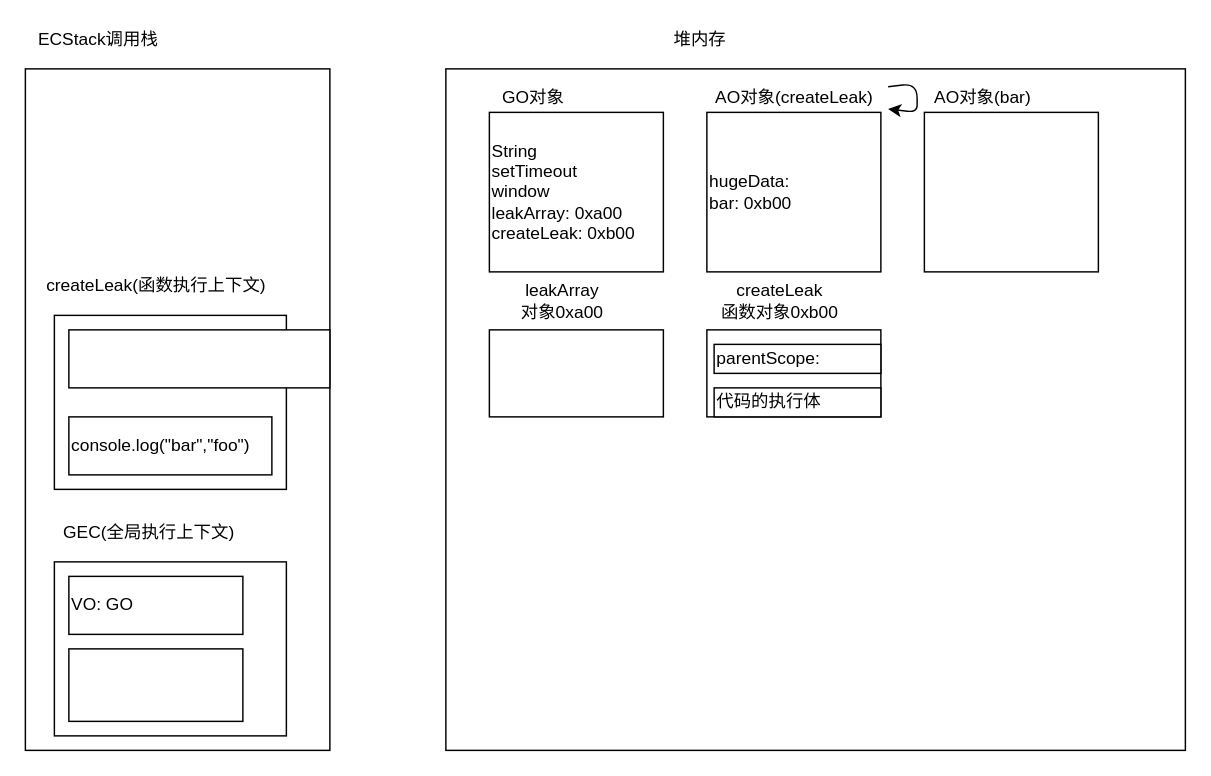
The diagram is 1211 pixels wide and 776 high, and some of its shapes have lost their labels. The shapes that lost their labels are listed below. From the top down, each one's box as (x1, y1, x2, y2) in pixels, then its label:
(67, 328, 330, 388): VO: AO scope chain: VO+parentScope
(67, 647, 243, 721): 开始执行代码 createLeak()
